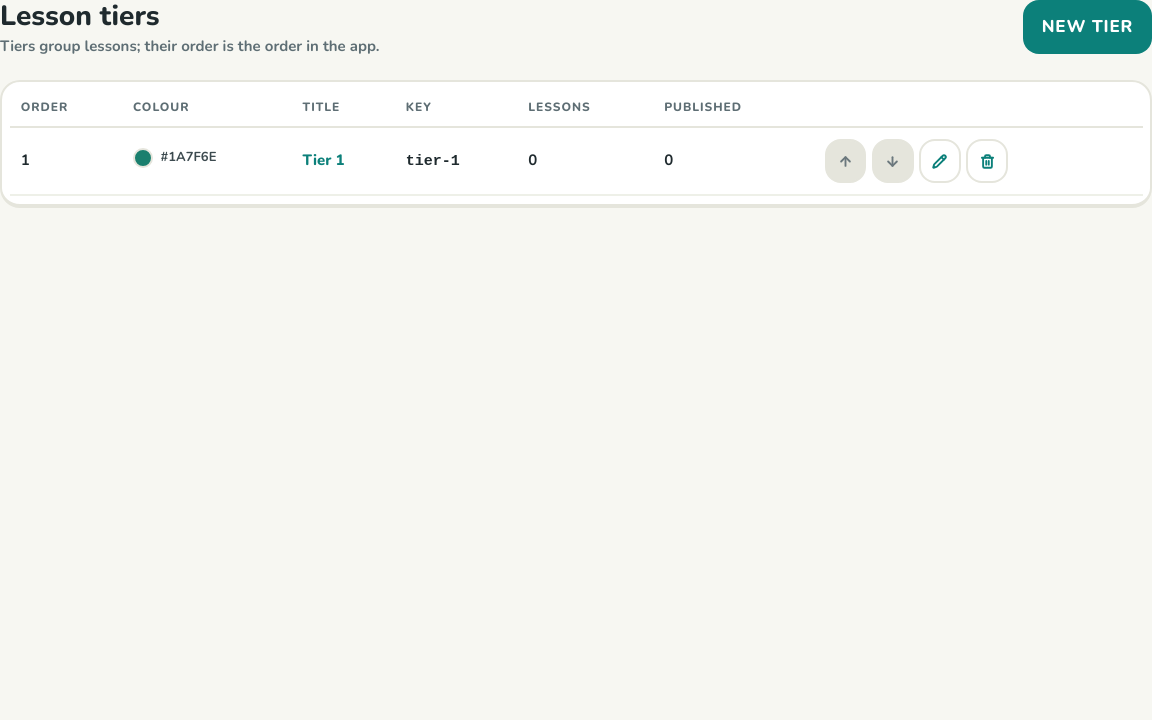
Test: AC6 · lesson tiers › shows TIER_KEY_TAKEN inline on the key field of the new tier dialog
Expected: the row with test id "lessons.tier.row.tier-1" is shown, [10,128,1142,195]
Click the button with test id "lessons.tiers.new".
click(1087, 27)  # box [1023,0,1151,54]
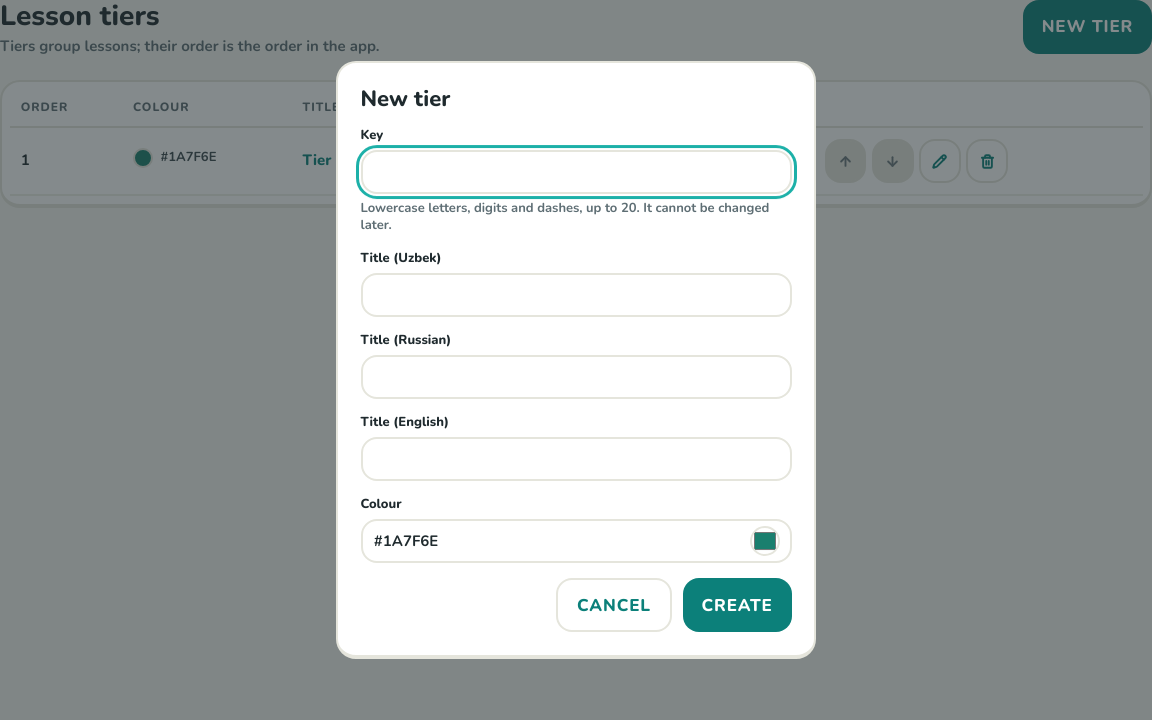
Type "tier-1" into the field labelled "Key".
click(576, 172); type("tier-1")  # box [360,150,792,194]
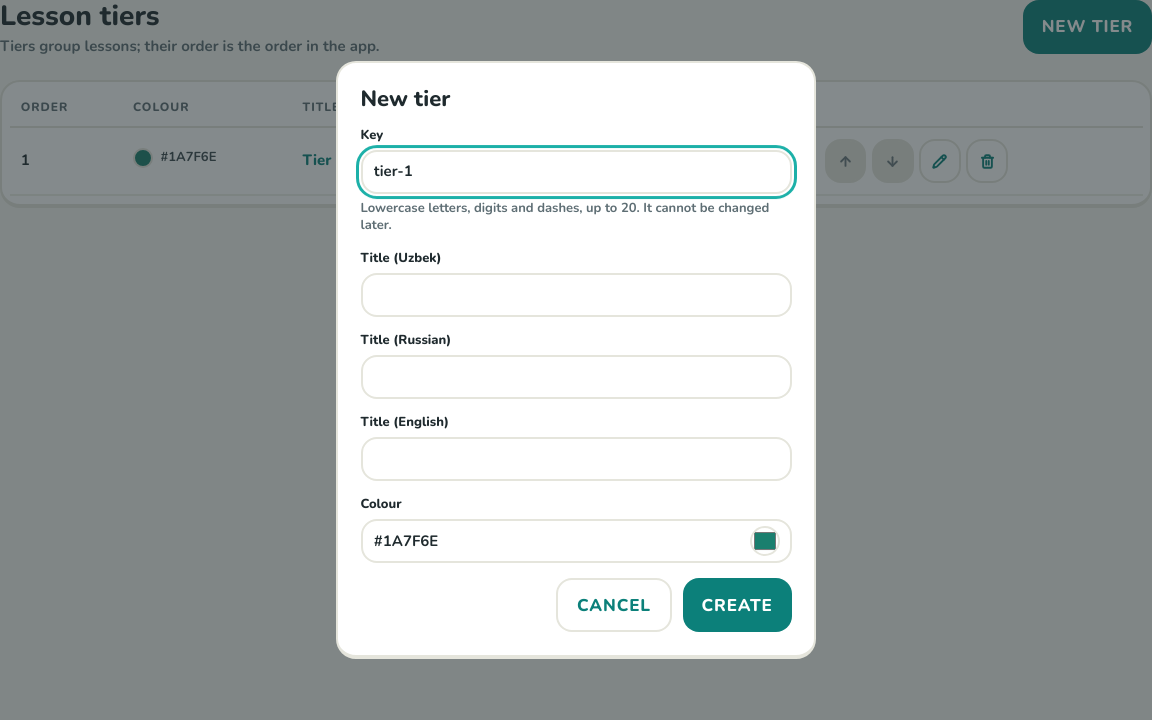
Type "Bosqich" into the field labelled "Title (Uzbek)".
click(576, 295); type("Bosqich")  # box [360,273,792,317]
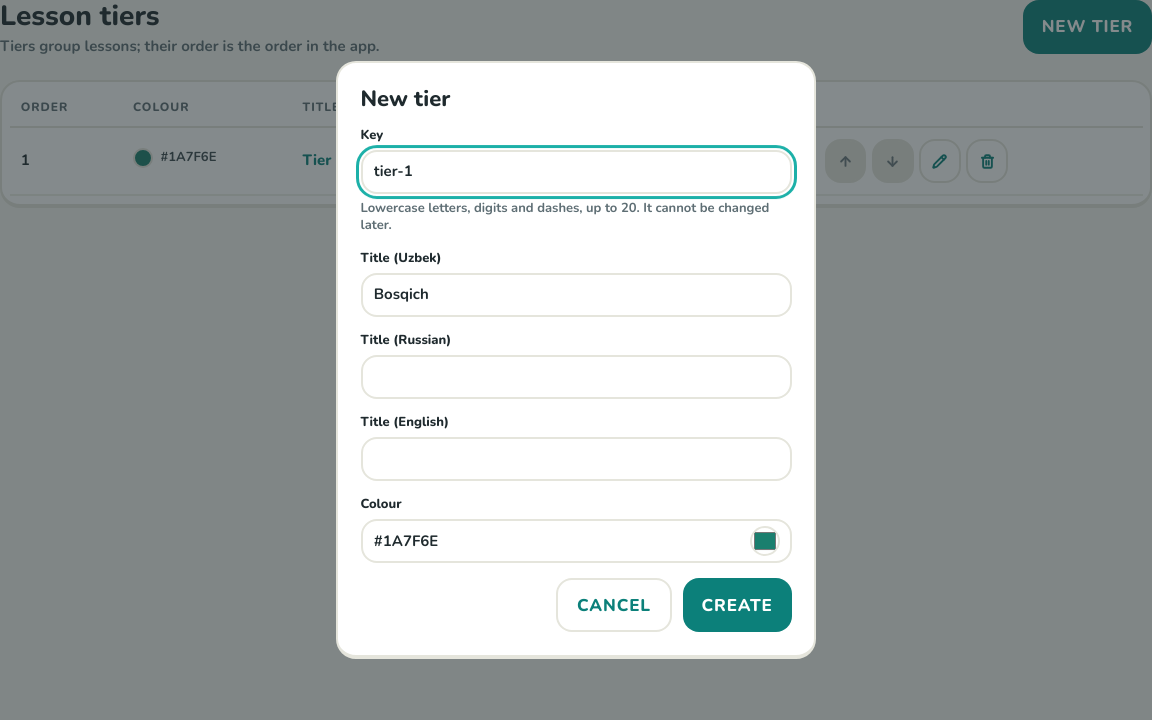
Type "Уровень" into the field labelled "Title (Russian)".
click(576, 377); type("Уровень")  # box [360,355,792,399]
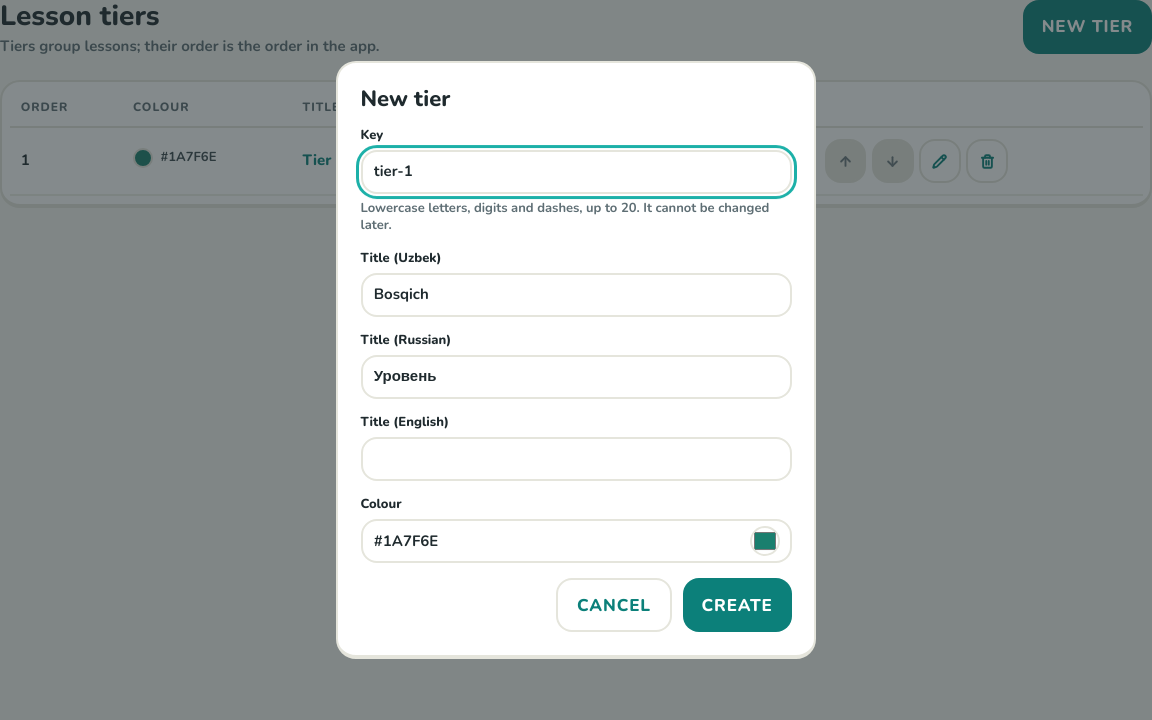
Type "Tier" into the field labelled "Title (English)".
click(576, 459); type("Tier")  # box [360,437,792,481]
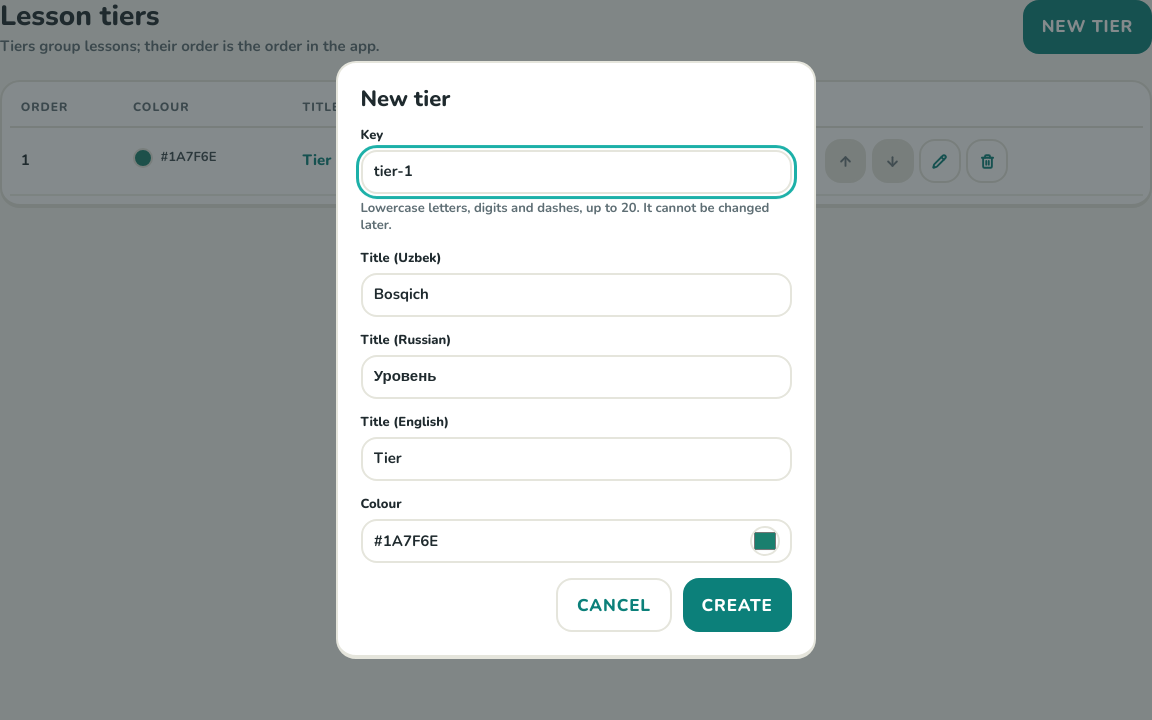
Click the button "Create".
click(737, 606)  # box [683,578,792,632]
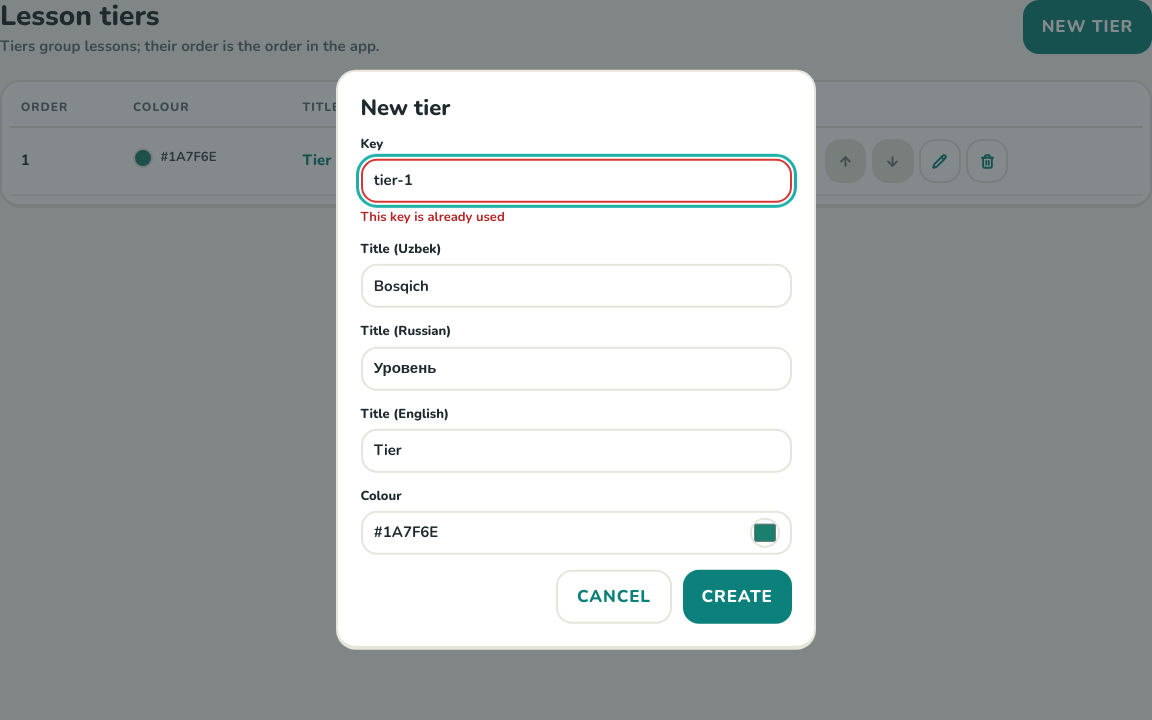
Expected: the text "This key is already used" is shown, [360,208,505,226]
